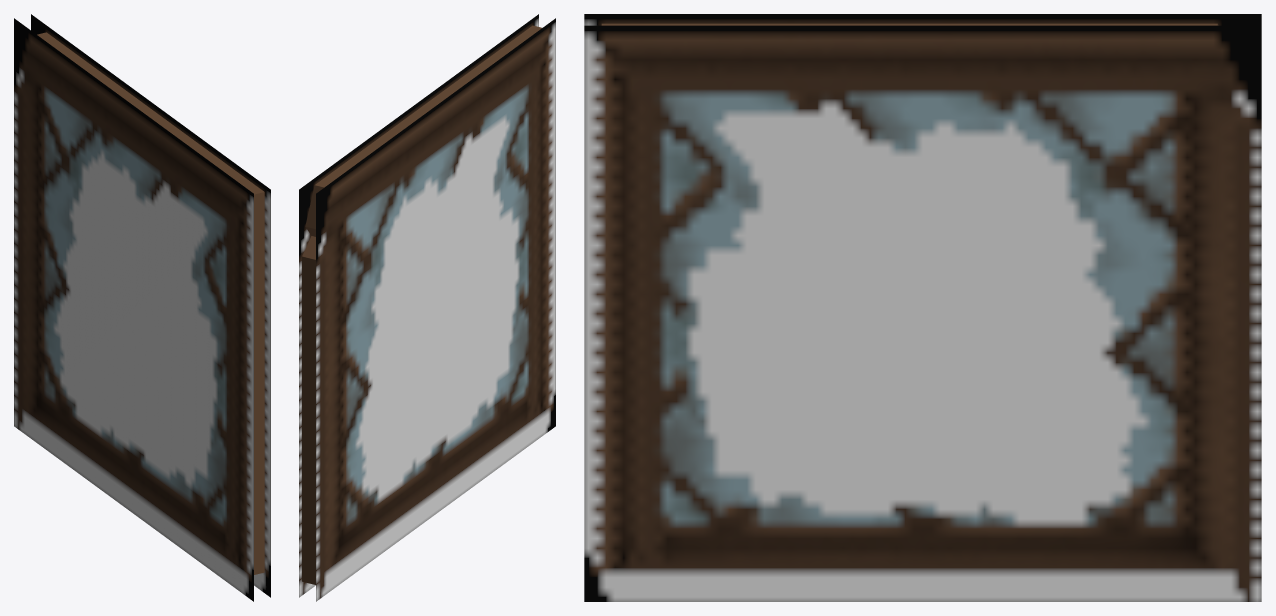
Rendered from pz_native_fixtures_windows_church_88_frame.obj.
The picture shows the model from 3 angles, left to right: view 1: azimuth 30°, elevation 25°; view 2: azimuth 150°, elevation 25°; view 3: azimuth 270°, elevation 25°; orthographic projection. The views are drawn at different scales.
Parts seen in each view (by area): view 1: pz_native_fixtures_windows_church_88_frame; view 2: pz_native_fixtures_windows_church_88_frame; view 3: pz_native_fixtures_windows_church_88_frame.
Boxes of the visible parts, x1,y1,x2,y2 form: pz_native_fixtures_windows_church_88_frame: (14,14,270,601); pz_native_fixtures_windows_church_88_frame: (299,14,555,601); pz_native_fixtures_windows_church_88_frame: (584,14,1261,601).
Bounding box in the file's own units: 0.04 × 0.9219 × 0.9823.
1 material, 1 textured.
